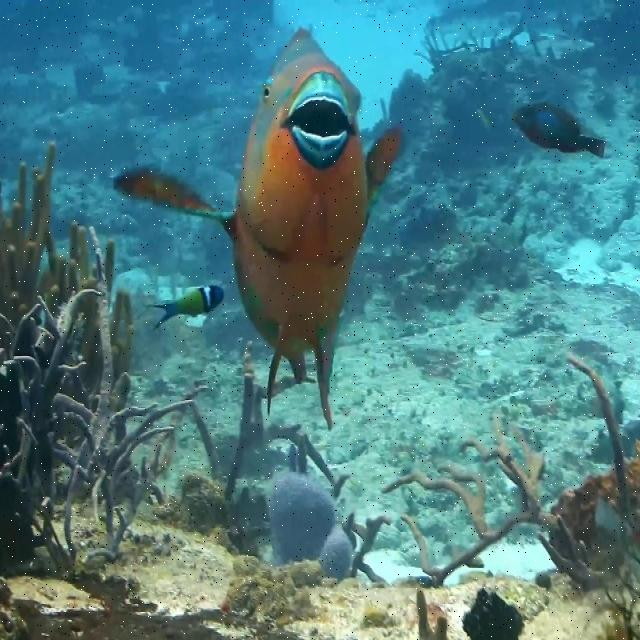aquatic plants: (1, 143, 135, 385)
fish: (111, 26, 403, 433), (514, 104, 606, 158), (144, 286, 225, 329)
reefs: (378, 352, 639, 585), (0, 275, 198, 572), (268, 467, 356, 580), (460, 587, 525, 639)
